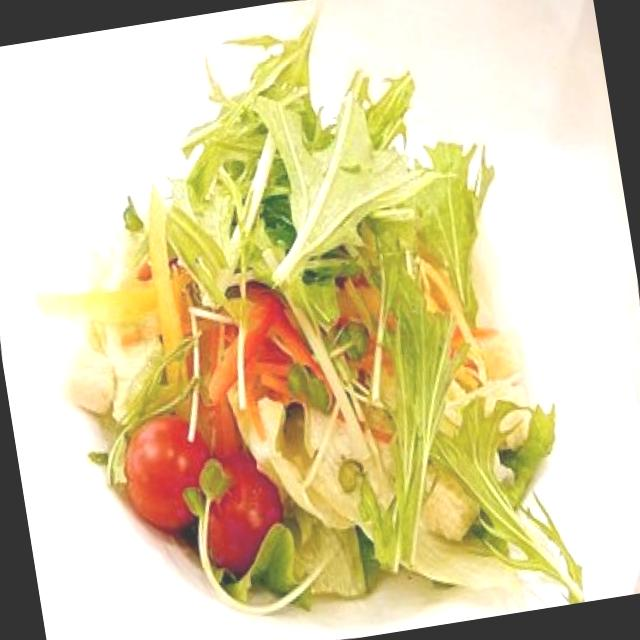Green Salad: (57, 36, 561, 602)
